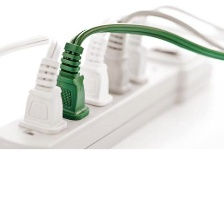three_eye_plug: (0, 32, 216, 154)
